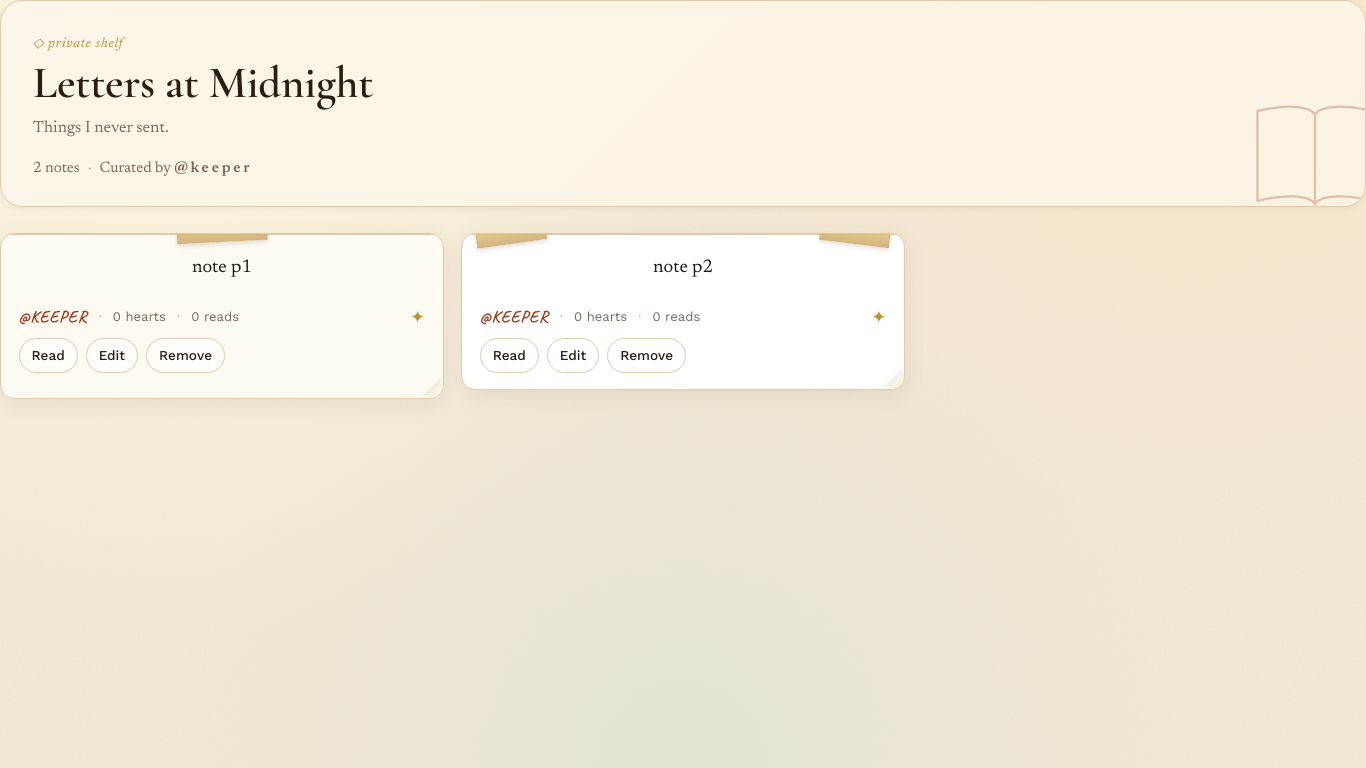
CollectionDetailPage › keeps the note and explains the failure when removal is rejected
Check: the text "note p1" is shown, box [192, 258, 252, 277]
Click the button "Remove" below "note p1" at point(186, 356), box [146, 338, 225, 373]
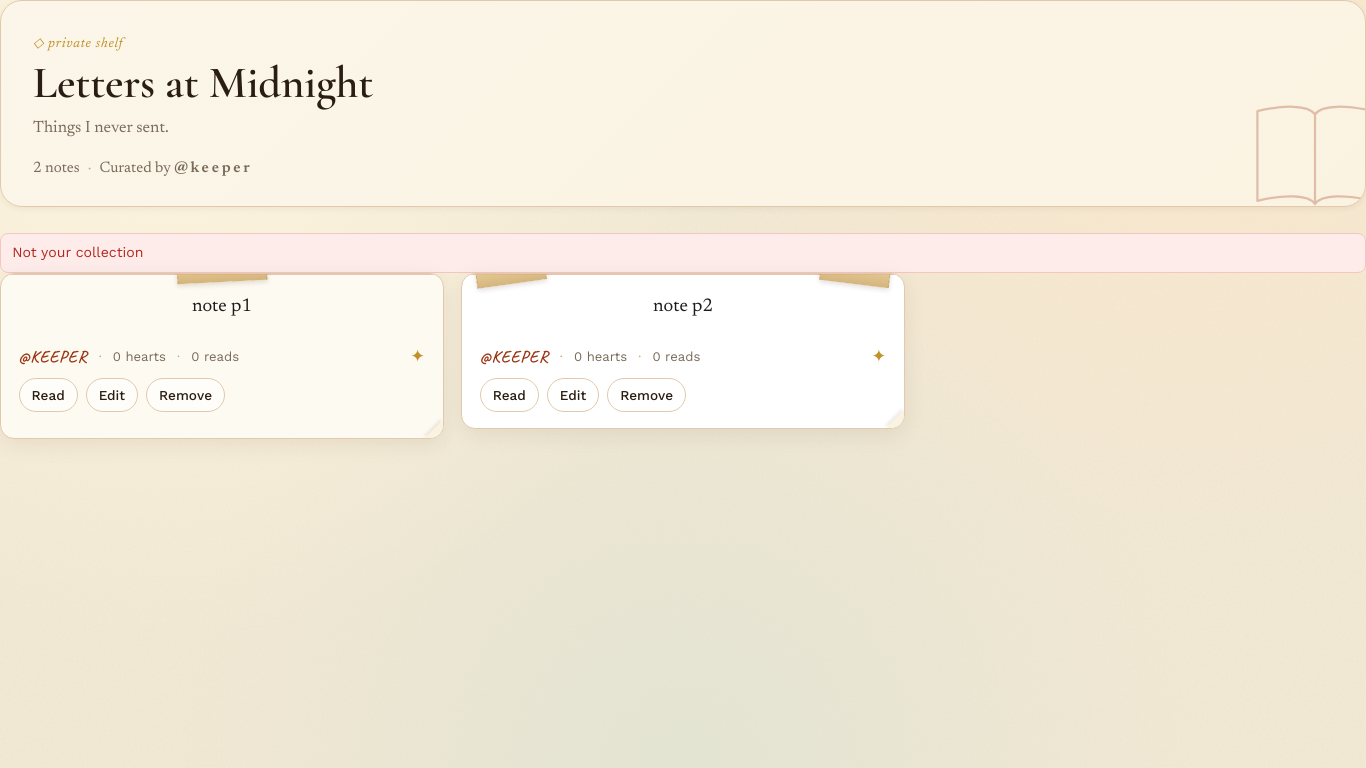
Check: the text "note p1" is shown, box [192, 297, 252, 316]
Check: the text "Not your collection" is shown, box [0, 233, 1365, 273]
